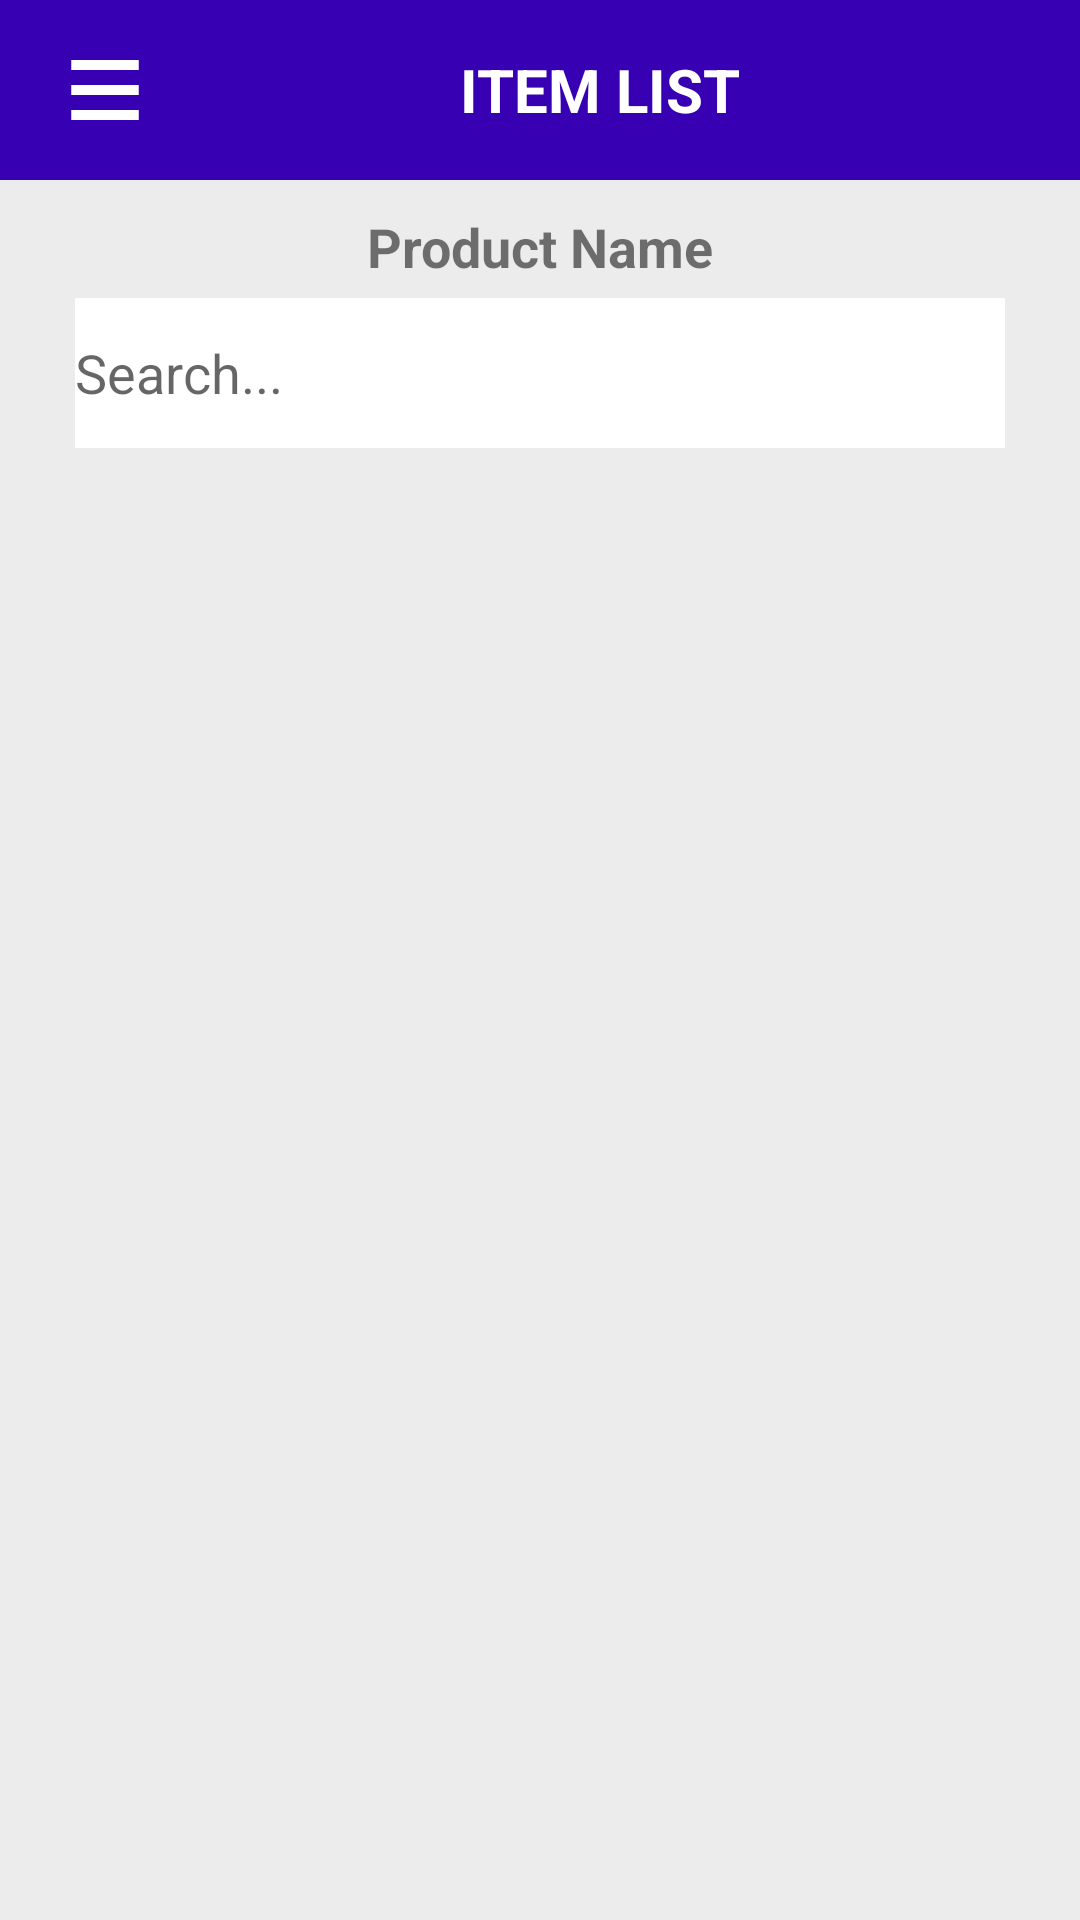

Named icons in this screenshot (1080×1920) and their centers, point (x, y):
bar: point (105, 90)
